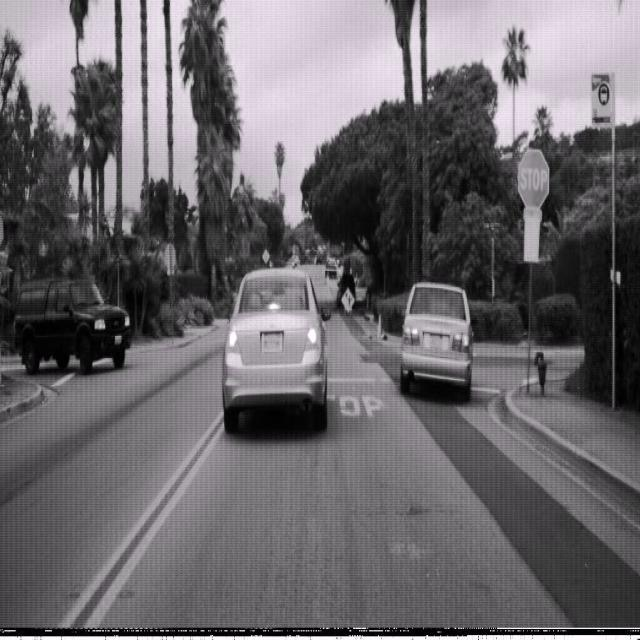stop_sign: (517, 147, 549, 211)
